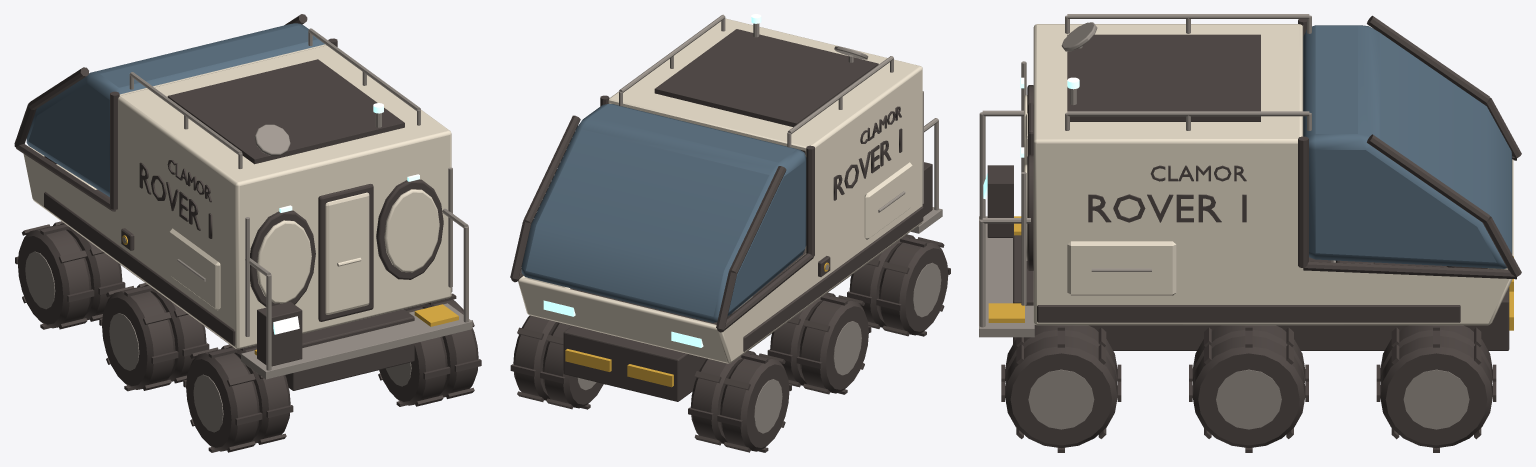
The model's file is vehicle_rover.glb.
3 views of the same model, side by side, from view 1: azimuth 30°, elevation 25°; view 2: azimuth 150°, elevation 25°; view 3: azimuth 270°, elevation 25° (orthographic). The views are drawn at different scales.
Visible parts, largest first — view 1: body, radiator, window, wheel_5, wheel_1, wheel_3, wheel_6, hatch, suitport_plate1, suitport_plate-1, belt-1, locker-1 (+17 smaller); view 2: window, body, radiator, wheel_1, wheel_3, wheel_5, wheel_2, belt-1, locker-1, pillar_a1, pillar_a-1, name-1 (+10 smaller); view 3: body, window, radiator, wheel_2, wheel_4, wheel_6, belt1, locker1, sill1, name1, console, pillar_a1 (+13 smaller).
Boxes of the visible parts, x1,y1,x2,y2 form: body: (23, 44, 472, 390); radiator: (167, 59, 404, 164); window: (26, 23, 324, 196); wheel_5: (183, 344, 293, 452); wheel_1: (15, 221, 125, 329); wheel_3: (99, 283, 209, 391); wheel_6: (378, 293, 481, 406); hatch: (325, 192, 369, 314); suitport_plate1: (384, 189, 439, 272); suitport_plate-1: (256, 220, 311, 303); belt-1: (44, 191, 235, 345); locker-1: (169, 228, 220, 310); window: (521, 104, 806, 322); body: (518, 18, 942, 401); radiator: (654, 29, 878, 126); wheel_1: (688, 350, 791, 452); wheel_3: (767, 292, 871, 394); wheel_5: (847, 234, 950, 336); wheel_2: (510, 315, 605, 409); belt-1: (743, 206, 923, 351); locker-1: (864, 162, 912, 239); pillar_a1: (523, 115, 580, 223); pillar_a-1: (729, 166, 786, 273); name-1: (833, 128, 902, 200); body: (979, 24, 1513, 350); window: (1303, 25, 1512, 268); radiator: (1067, 34, 1260, 121); wheel_2: (1376, 325, 1496, 452); wheel_4: (1189, 325, 1308, 452); wheel_6: (1001, 325, 1121, 452); belt1: (1037, 305, 1460, 322); locker1: (1067, 241, 1176, 295); sill1: (1303, 261, 1516, 279); name1: (1088, 194, 1246, 222); console: (987, 165, 1013, 237); pillar_a1: (1367, 134, 1489, 222).
Bounding box in the file's own units: 2.64 × 3.05 × 4.49.
